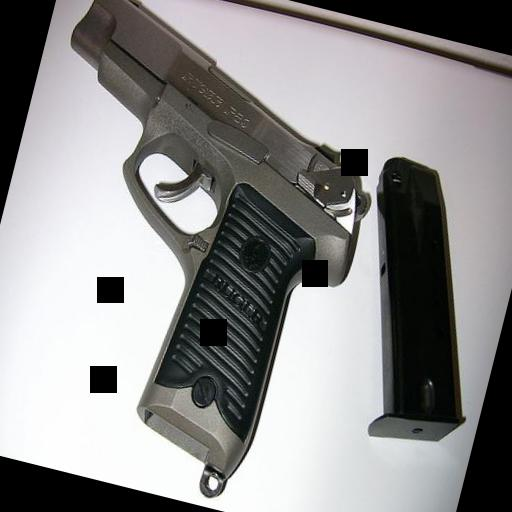Handgun: (0, 0, 404, 492)
